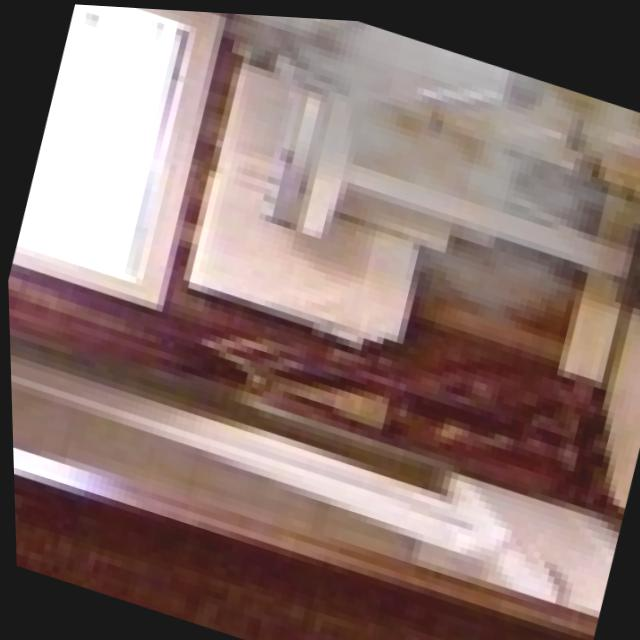smoke: (149, 7, 640, 376)
